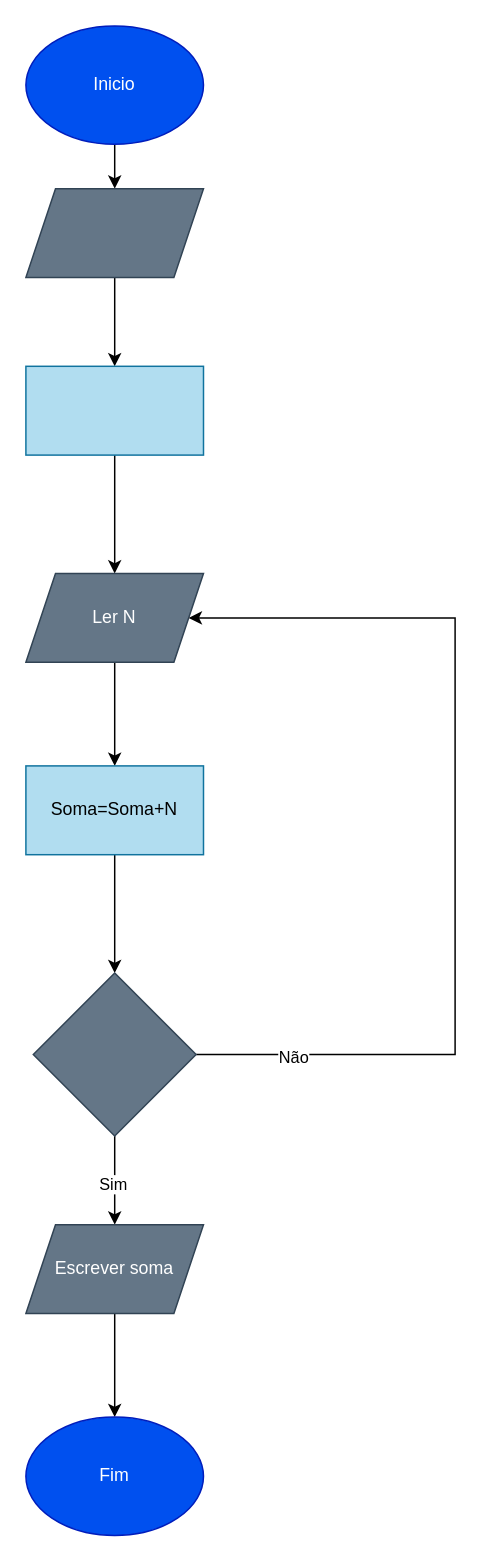
Some shapes in this 493 by 1561 pixel diagram are drawn without their labels. The centre of each missing label's shape, as x and y in pixels:
"quantos n quere somar" belongs at pixel 114 232.
"Quantos=0" belongs at pixel 114 1054.
"soma=0" belongs at pixel 114 410.
